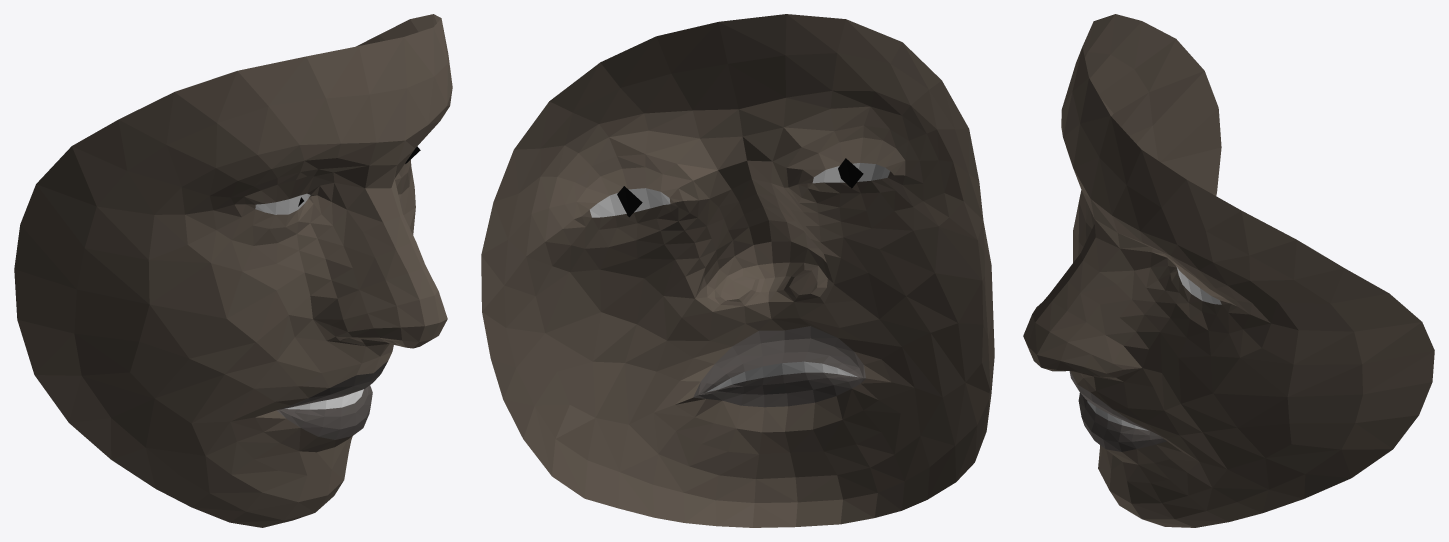
Rendered from frame_00097.obj.
3 renders of one model, left to right at view 1: azimuth 30°, elevation 25°; view 2: azimuth 150°, elevation 25°; view 3: azimuth 270°, elevation 25°, orthographic. The views are drawn at different scales.
Parts seen in each view (by area): view 1: face_model_with_iris; view 2: face_model_with_iris; view 3: face_model_with_iris.
Part boxes in pixels (bbox=[...]): face_model_with_iris: bbox=[14, 14, 452, 527]; face_model_with_iris: bbox=[481, 14, 994, 527]; face_model_with_iris: bbox=[1023, 14, 1434, 527].
Size of the model in its own units: 0.5018 by 0.5406 by 0.4398.
